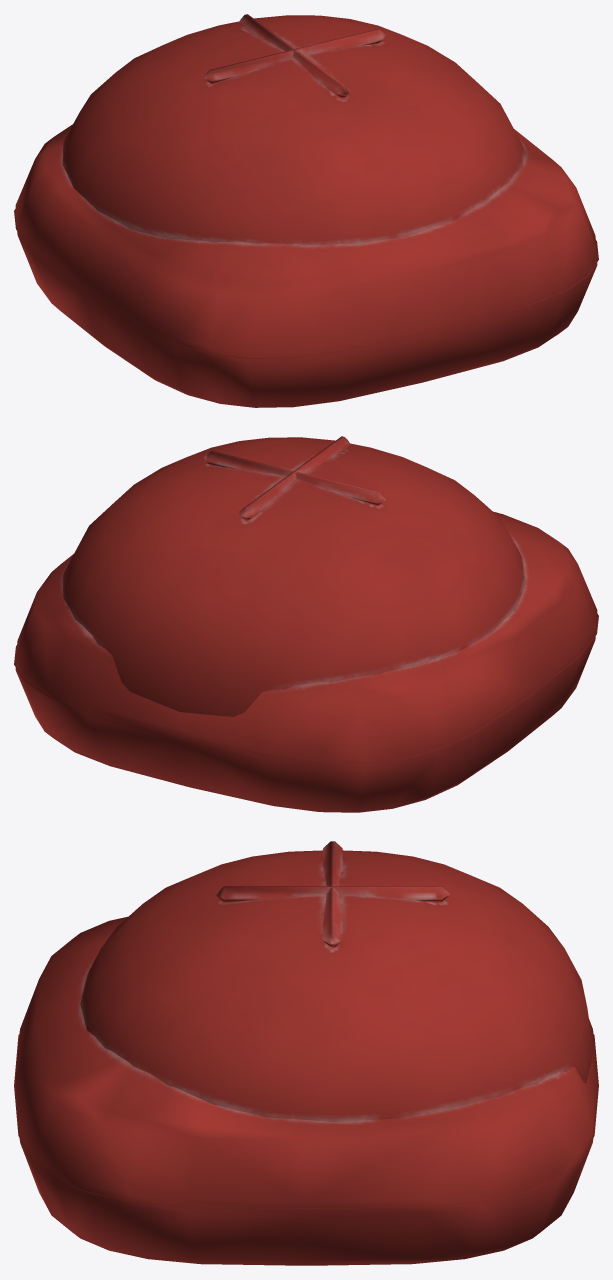
Rendered from Maton_Gorro.fbx.
The picture shows the model from 3 angles, top to bottom: view 1: azimuth 30°, elevation 25°; view 2: azimuth 150°, elevation 25°; view 3: azimuth 270°, elevation 25°; orthographic projection. The views are drawn at different scales.
Visible parts, largest first — view 1: Maton_Gorro; view 2: Maton_Gorro; view 3: Maton_Gorro.
Boxes of the visible parts, x1,y1,x2,y2 form: Maton_Gorro: (14,14,598,407); Maton_Gorro: (14,436,598,812); Maton_Gorro: (14,841,598,1265).
Size of the model in its own units: 1.58 by 0.9552 by 1.58.
